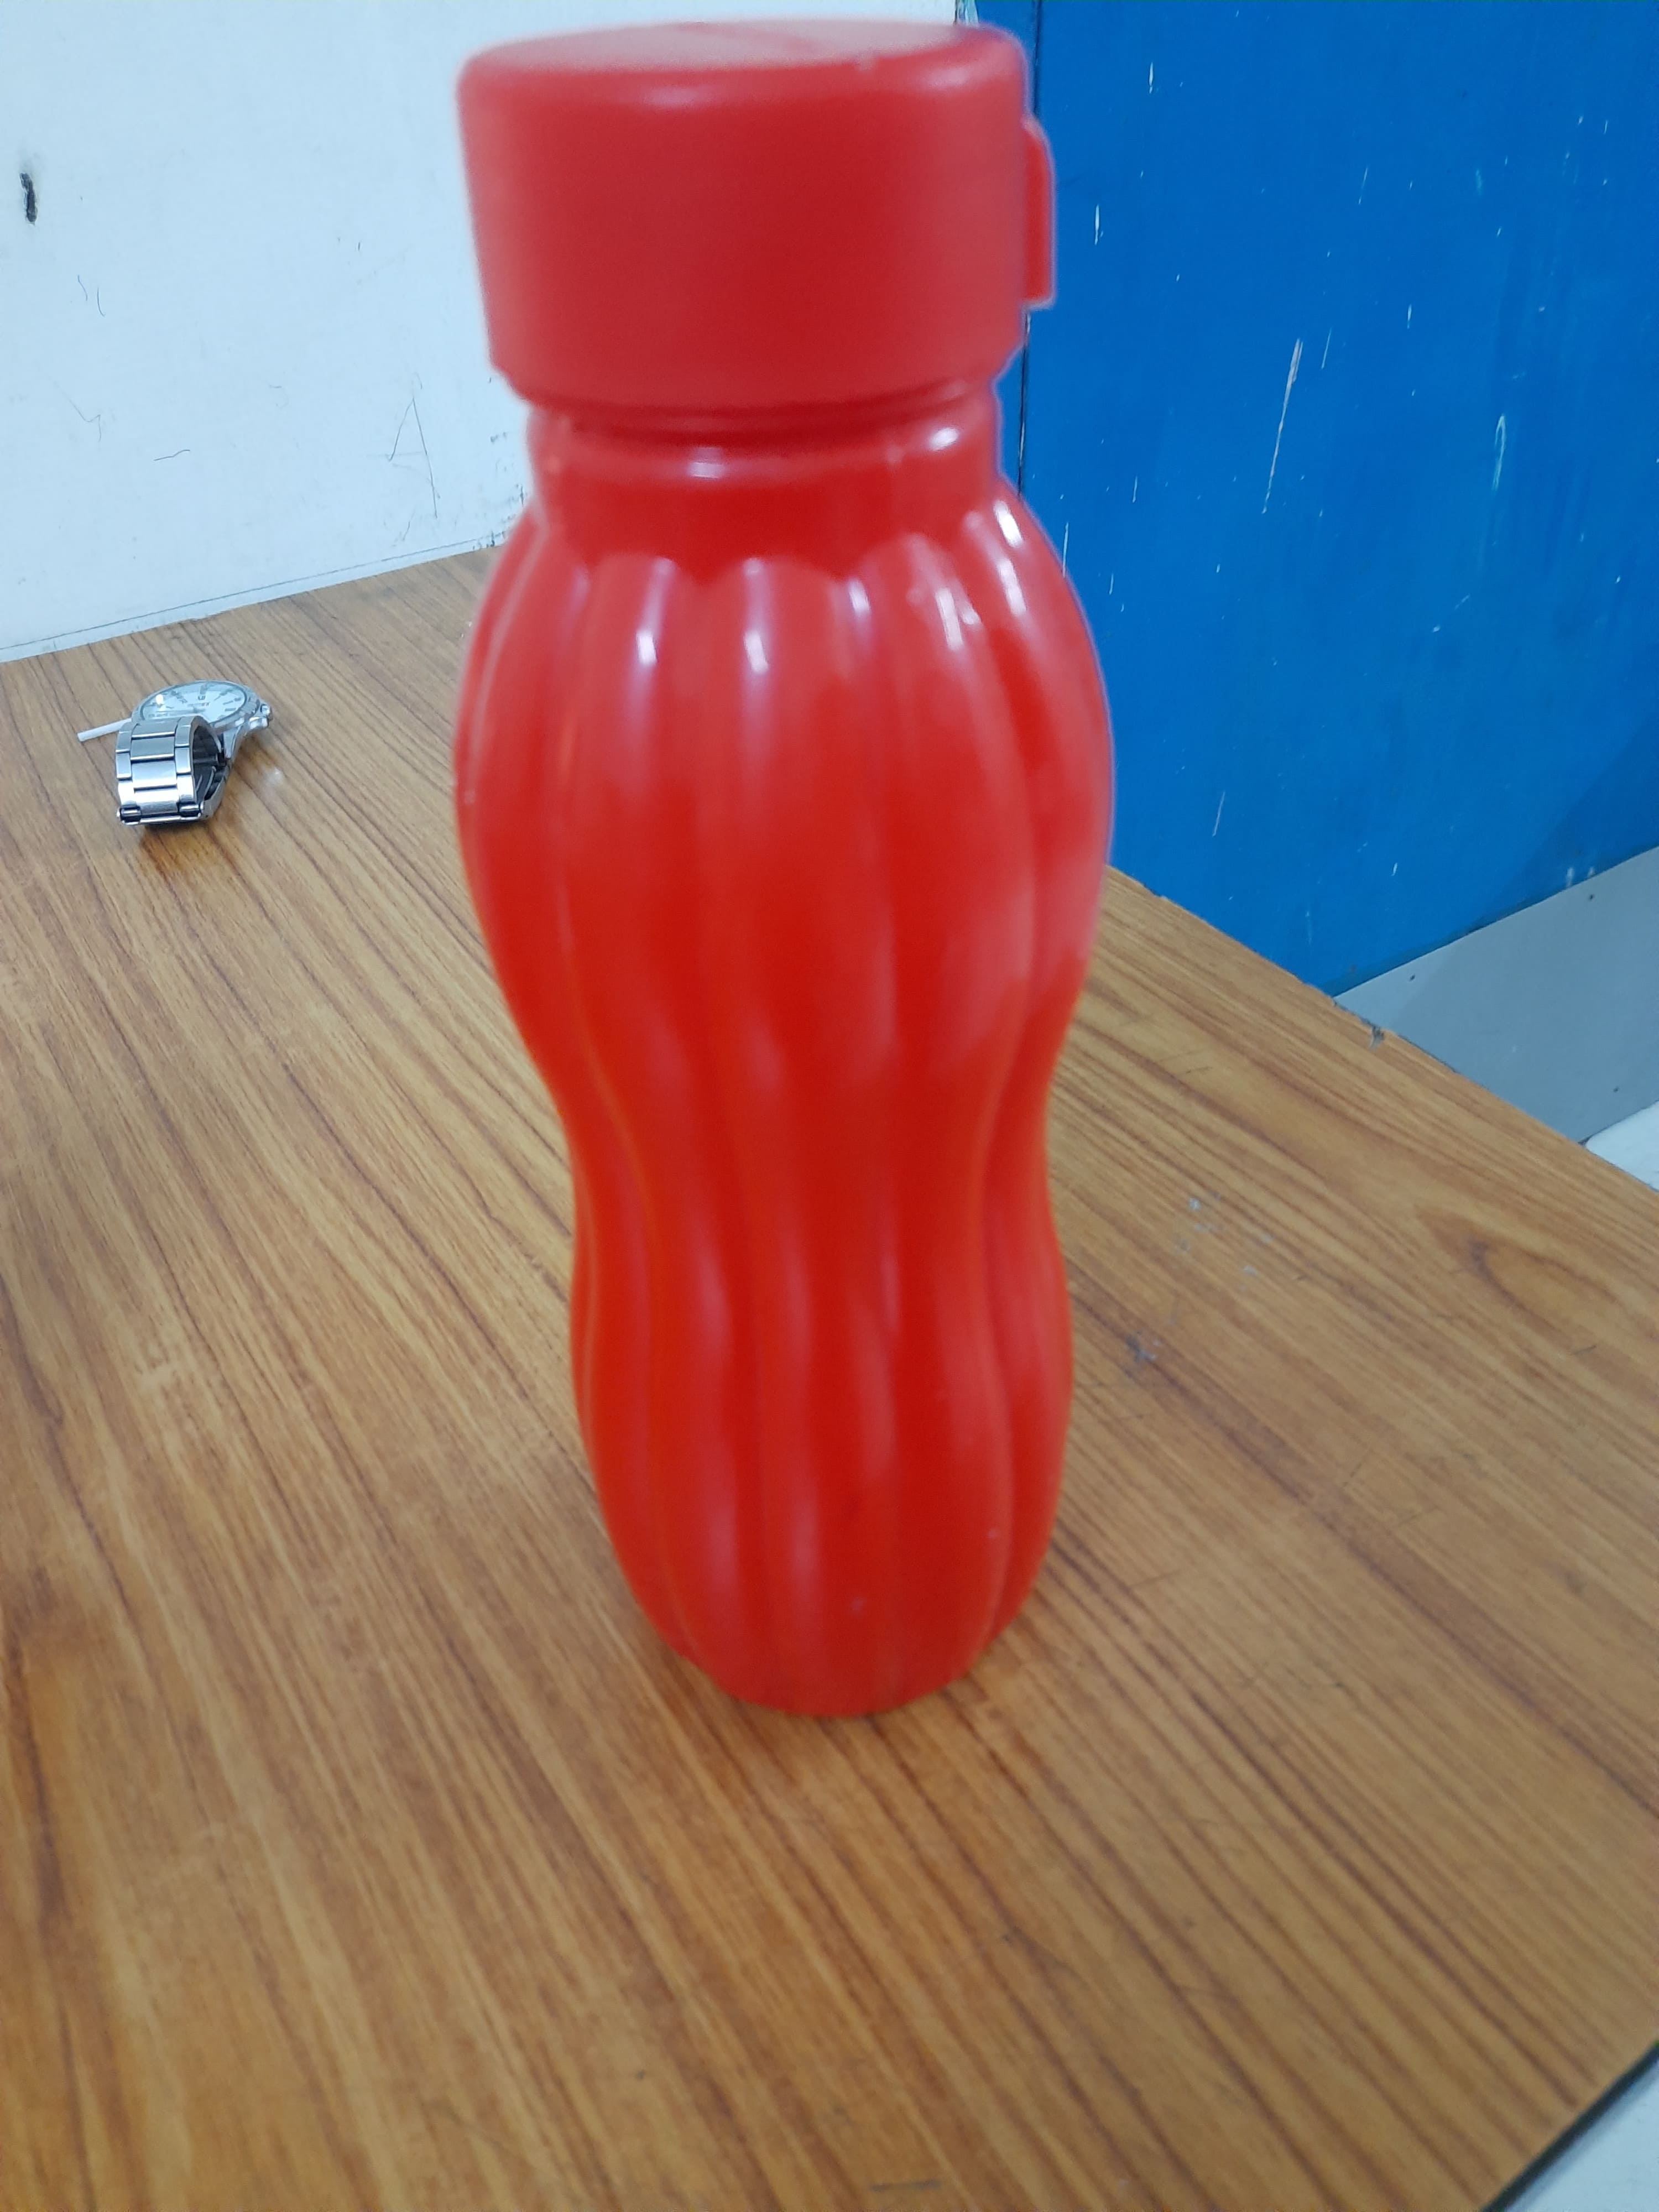Vikash's Water Bottle: (410, 9, 1121, 1752)
